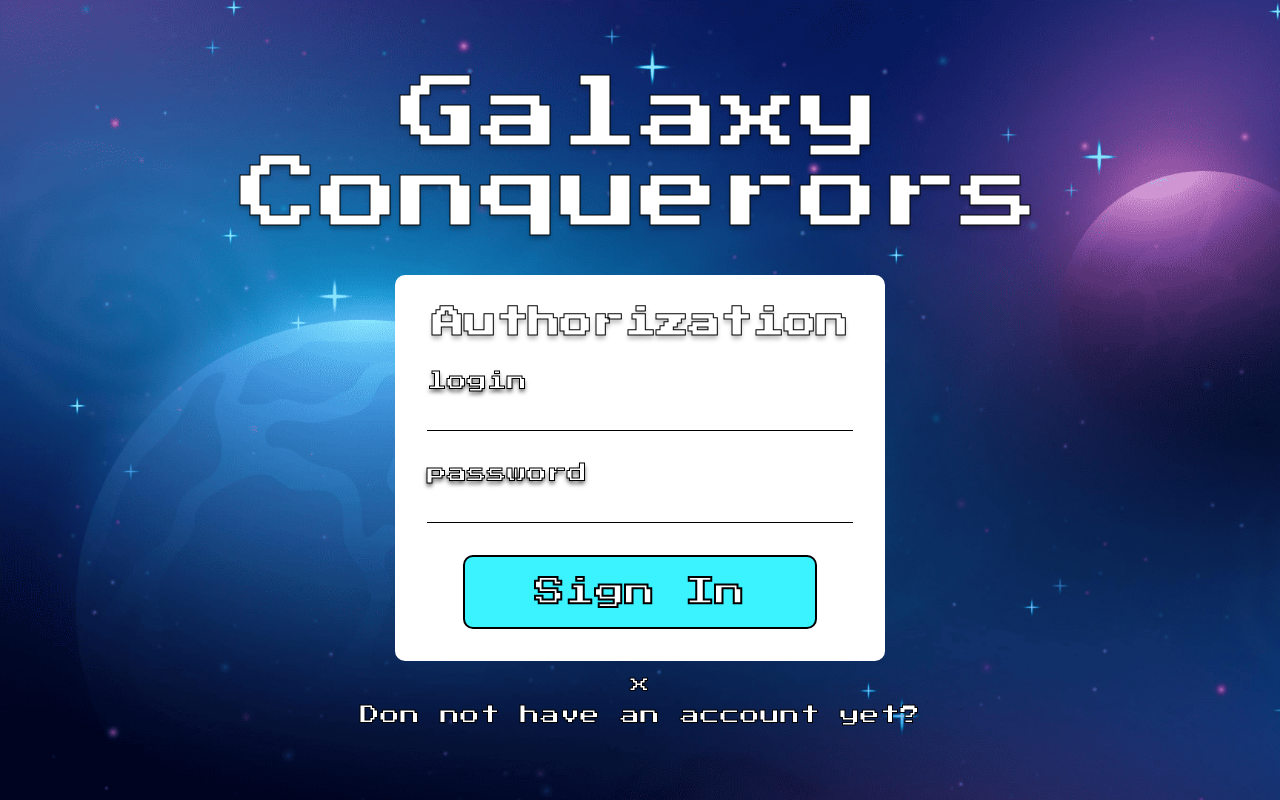
Test case: Login Page › should render error text for login & password on blur
The image size is (1280, 800).
# Пользователь вводит значение из двух символов. Минимум - 3
Type "ab" into the field with test id "login_input_first-name". click: (640, 416)
box: 427,401 -> 853,431
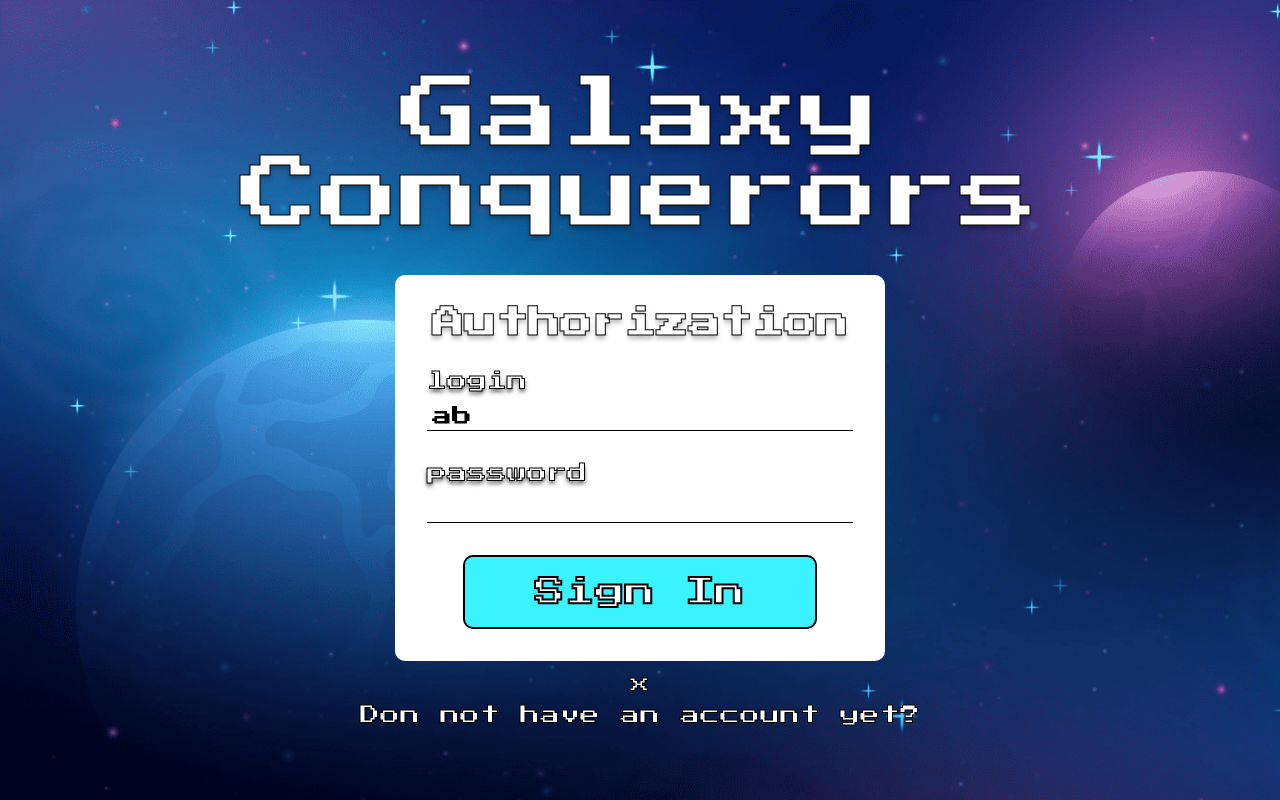
# Пользователь вводит значение из шести символов. Минимум - 8
Type "312dad" into the password field with test id "login_input_password". click: (640, 508)
box: 427,493 -> 853,523
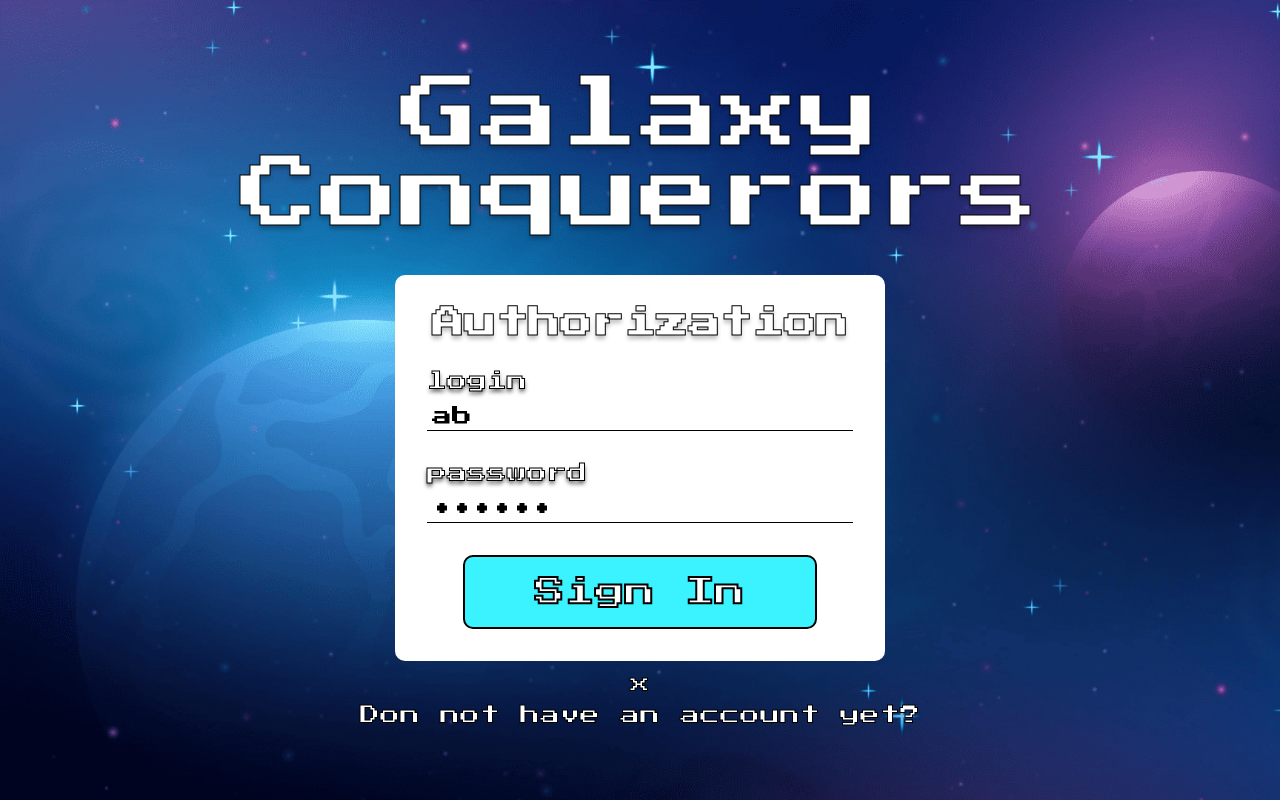
Leave the password field with test id "login_input_password", box 427,493 -> 853,523
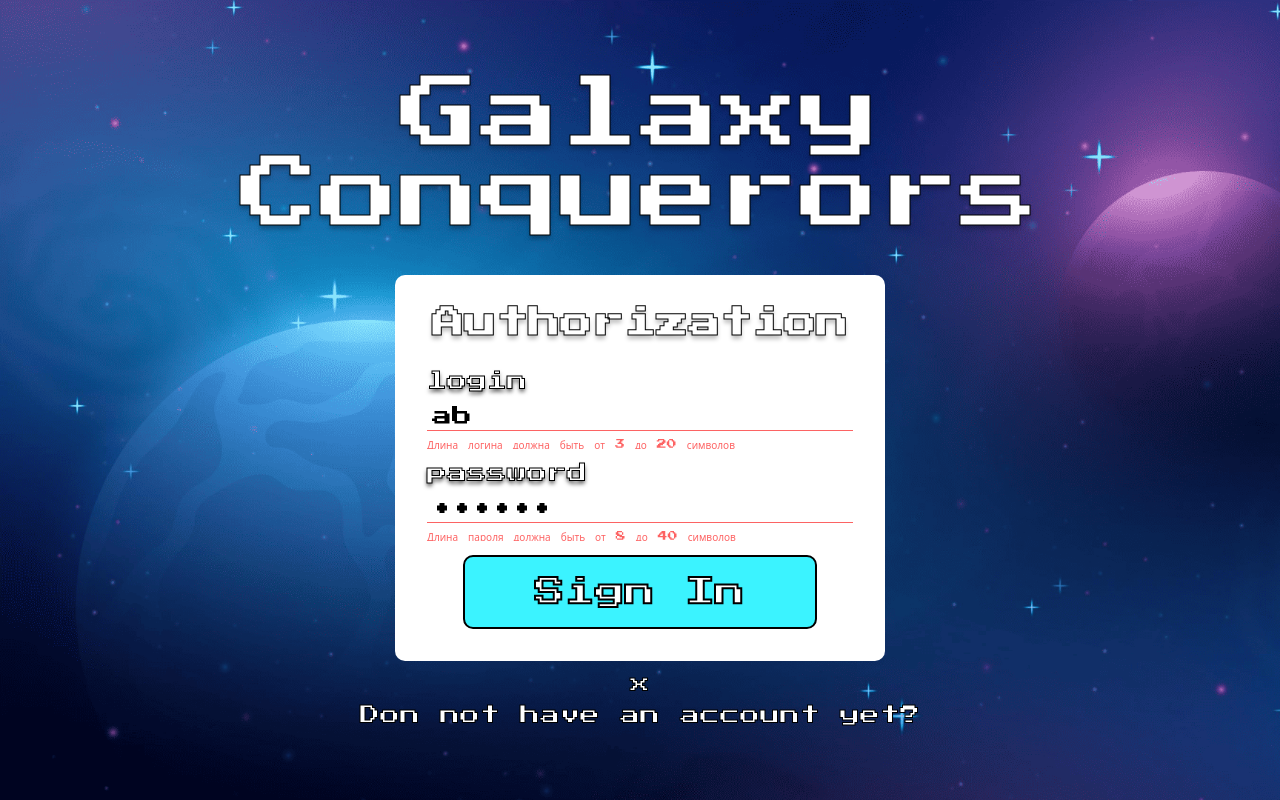
Check: the text "Длина логина должна быть от 3 до 20 символов" is shown, box 427,439 -> 735,449
Check: the text "Длина пароля должна быть от 8 до 40 символов" is shown, box 427,531 -> 736,541
